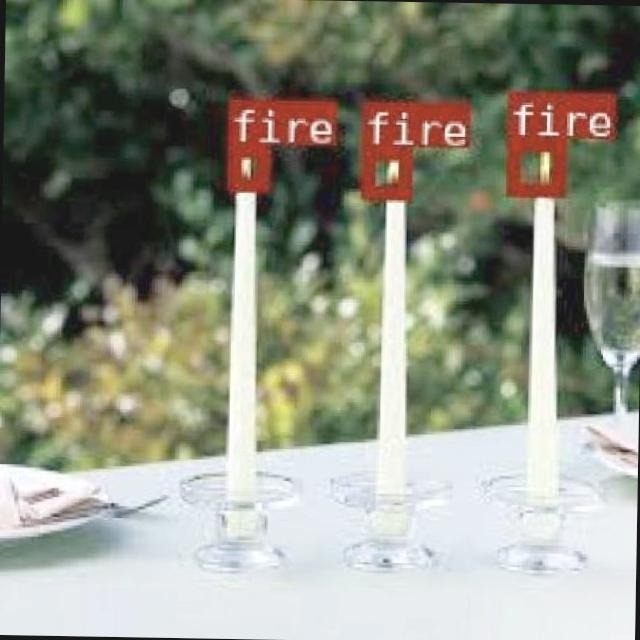fire: (504, 136, 564, 194), (358, 142, 410, 196), (226, 142, 267, 188)
